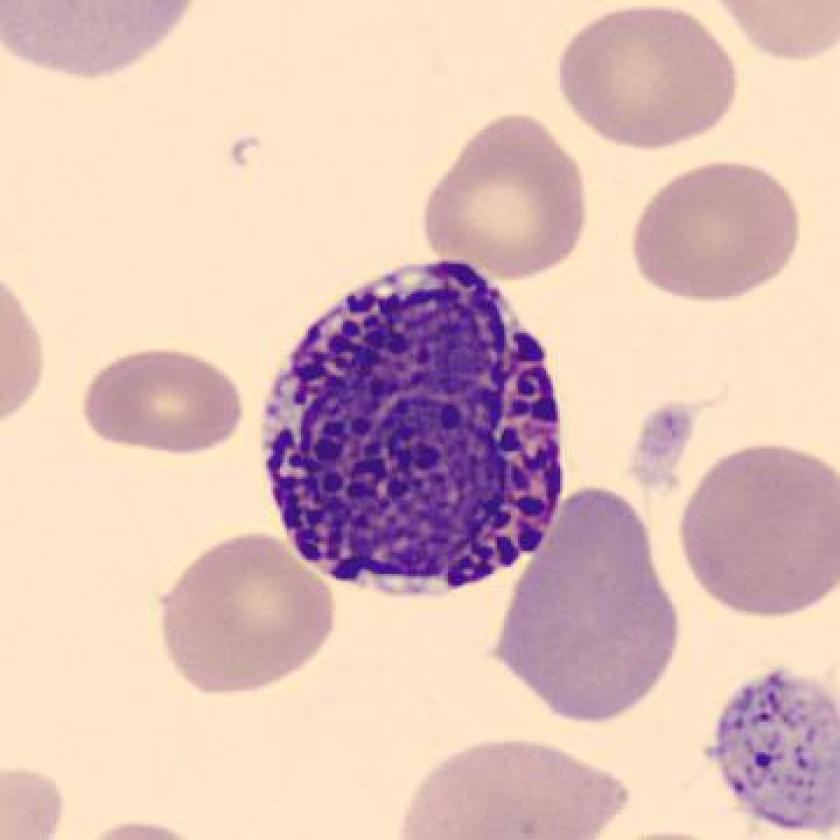basophil: (255, 244, 582, 607)
